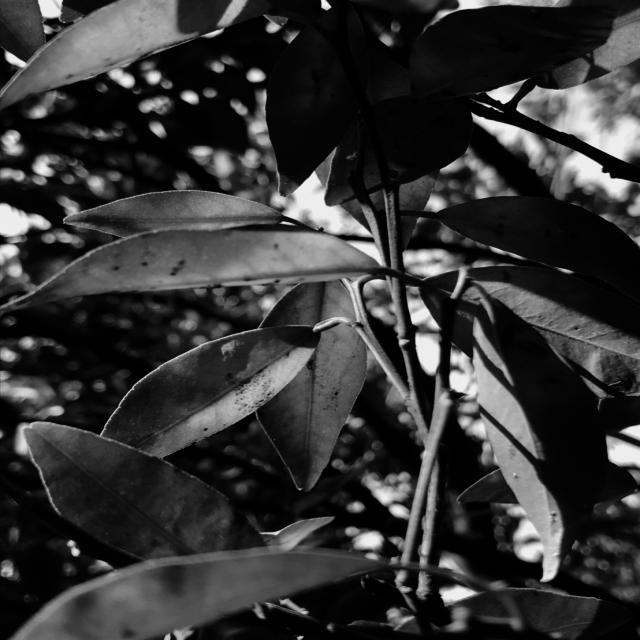canker: (48, 231, 324, 308), (167, 337, 316, 435), (425, 13, 603, 95), (502, 408, 592, 554), (472, 204, 598, 255)
